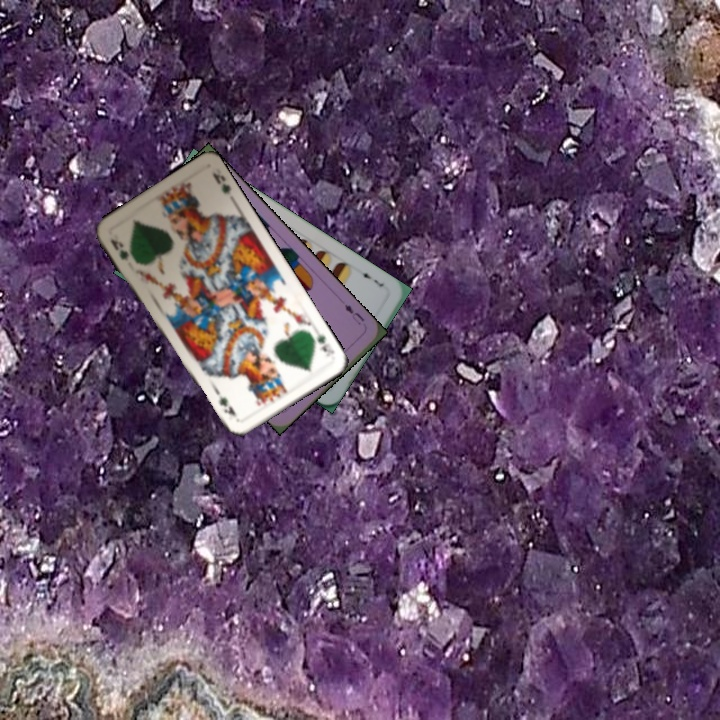E7: (355, 266, 386, 290)
EU: (340, 300, 367, 328)
GK: (106, 234, 131, 264), (313, 329, 337, 359)
